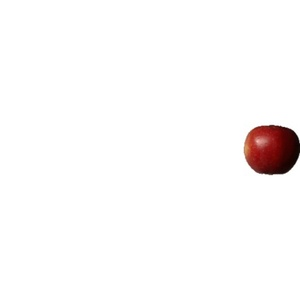maçã braeburn: (241, 121, 296, 179)
